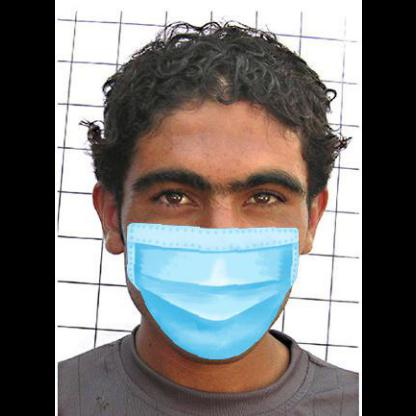Surgical Mask: (111, 125, 301, 362)
